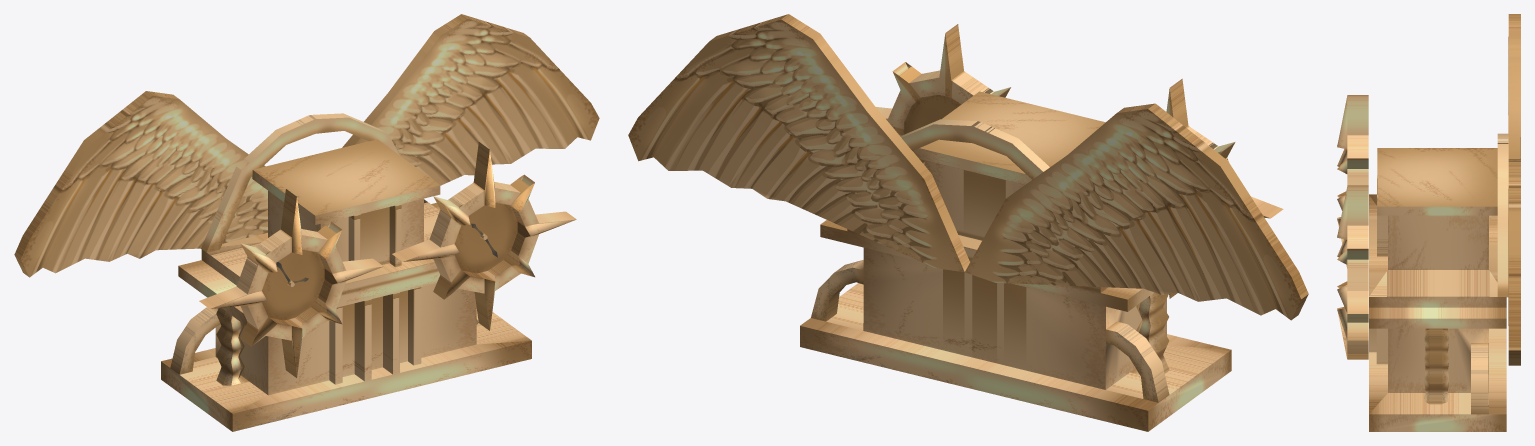
The model's file is clock.FBX.
3 renders of one model, left to right at view 1: azimuth 30°, elevation 25°; view 2: azimuth 150°, elevation 25°; view 3: azimuth 270°, elevation 25°, orthographic. The views are drawn at different scales.
Visible parts, largest first — view 1: Plane004; view 2: Plane004; view 3: Plane004.
Part boxes in pixels (x1=…): Plane004: x1=14, y1=14, x2=599, y2=431; Plane004: x1=628, y1=14, x2=1308, y2=431; Plane004: x1=1337, y1=14, x2=1520, y2=431.
Size of the model in its own units: 20.43 by 9.61 by 5.85.
